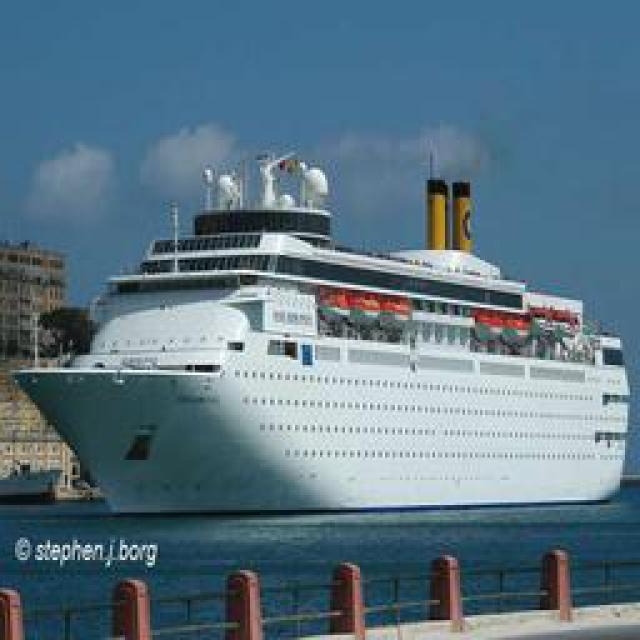Ship: (14, 138, 627, 546)
